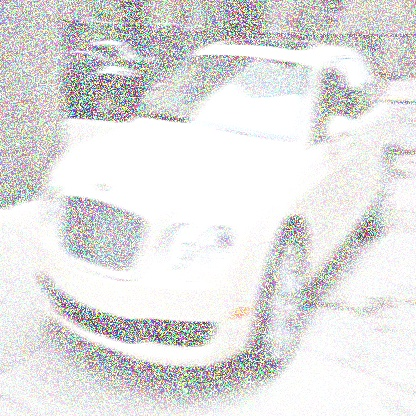Vehicle: (32, 36, 400, 380)
